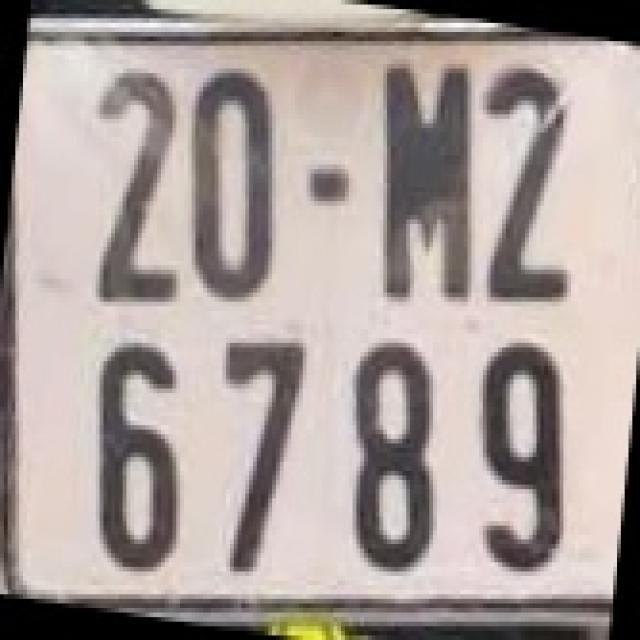0: (188, 64, 280, 302)
2: (483, 60, 579, 306), (88, 64, 184, 306)
6: (92, 338, 184, 572)
7: (214, 334, 310, 576)
8: (345, 334, 441, 576)
9: (471, 334, 571, 576)
M: (376, 57, 476, 304)
